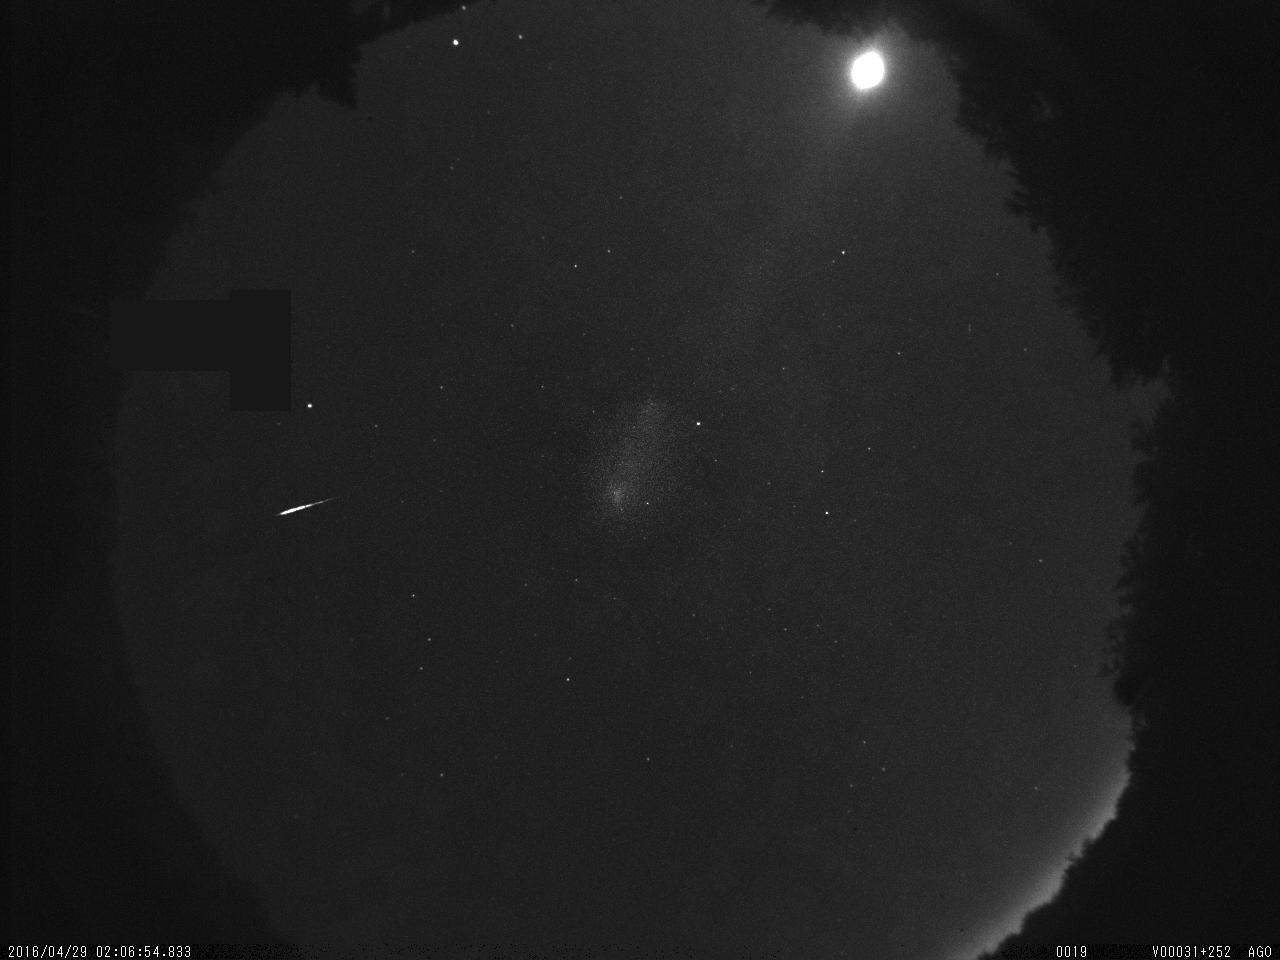meteor: (265, 492, 395, 543)
